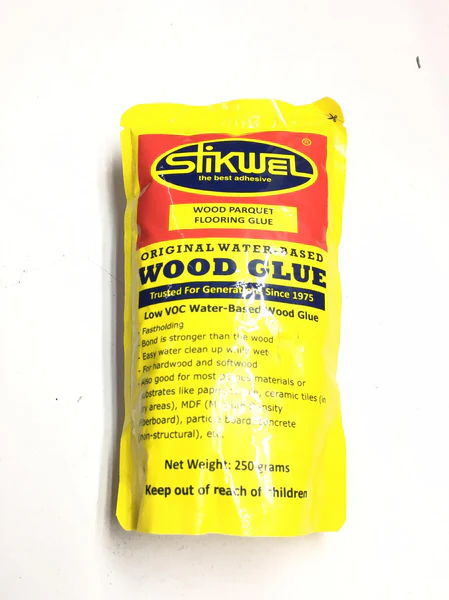toxic_waste: (120, 110, 341, 526)
